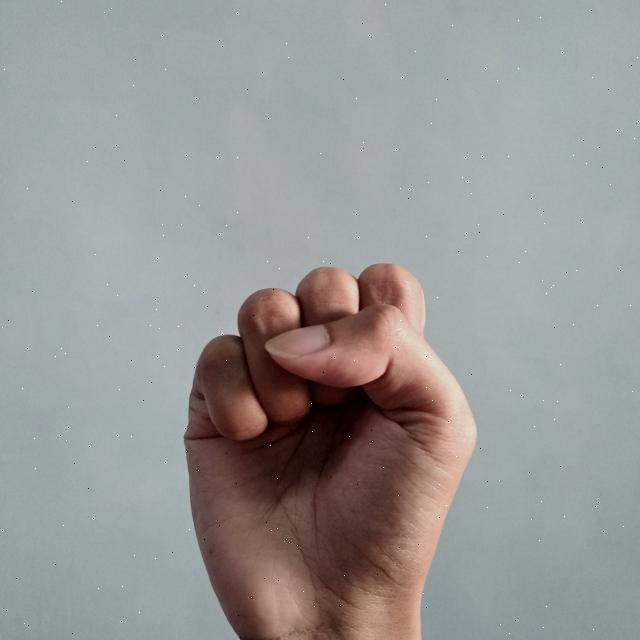S: (175, 257, 486, 640)
